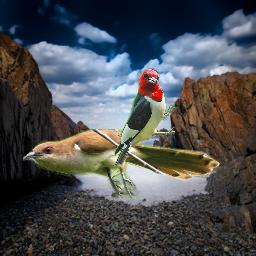Cuckoo: (23, 129, 221, 198)
Woodpecker: (111, 68, 175, 166)
